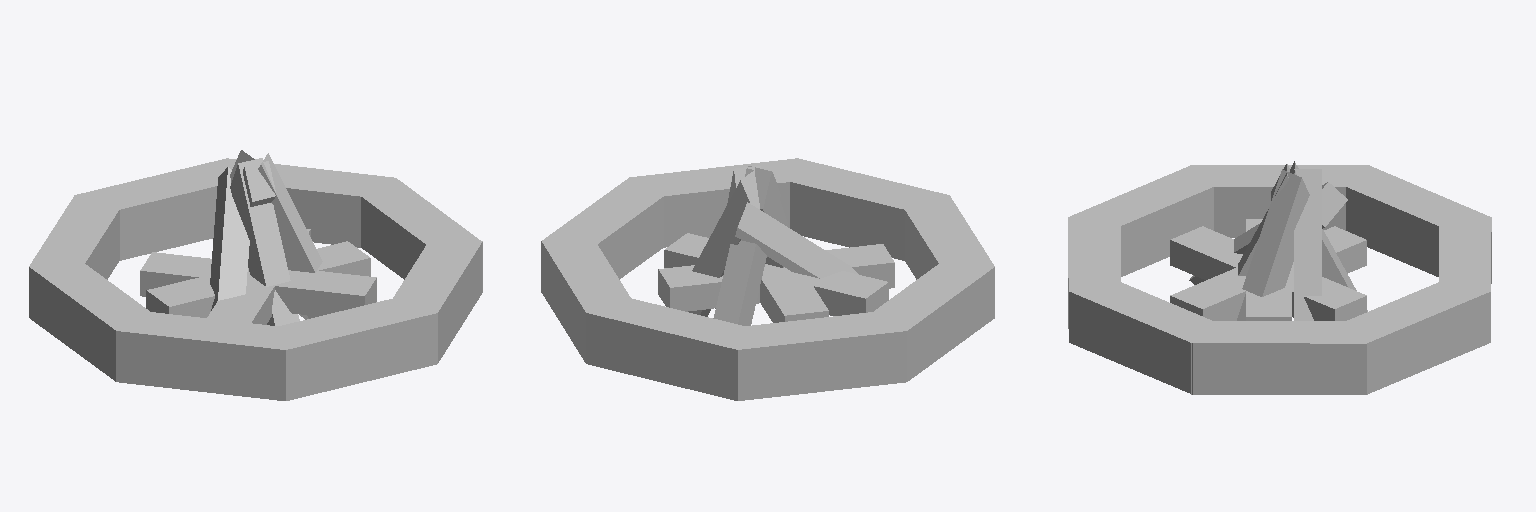
Rendered from CampFire.obj.
3 renders of one model, left to right at view 1: azimuth 30°, elevation 25°; view 2: azimuth 150°, elevation 25°; view 3: azimuth 270°, elevation 25°, orthographic.
Visible parts, largest first — view 1: Cube, Sphere; view 2: Cube, Sphere; view 3: Cube, Sphere.
Boxes of the visible parts, box(x1,y1,x2,y2) form: Cube: box(29, 158, 482, 400); Sphere: box(140, 150, 376, 325); Cube: box(541, 158, 994, 400); Sphere: box(658, 166, 894, 325); Cube: box(1068, 165, 1491, 394); Sphere: box(1170, 161, 1367, 320).
Bounding box in the file's own units: 5.88 × 2.75 × 5.87.